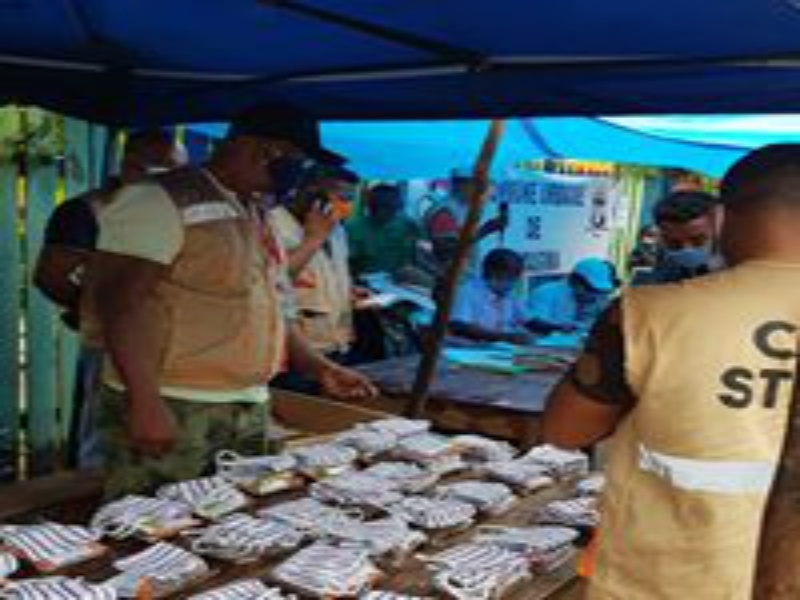ManaoArotava: (249, 109, 336, 200)
